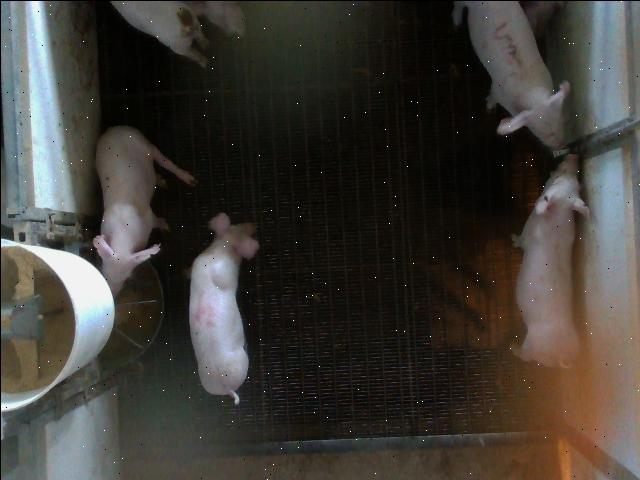pig-3: (452, 0, 569, 155)
pig-4: (189, 211, 259, 403)
